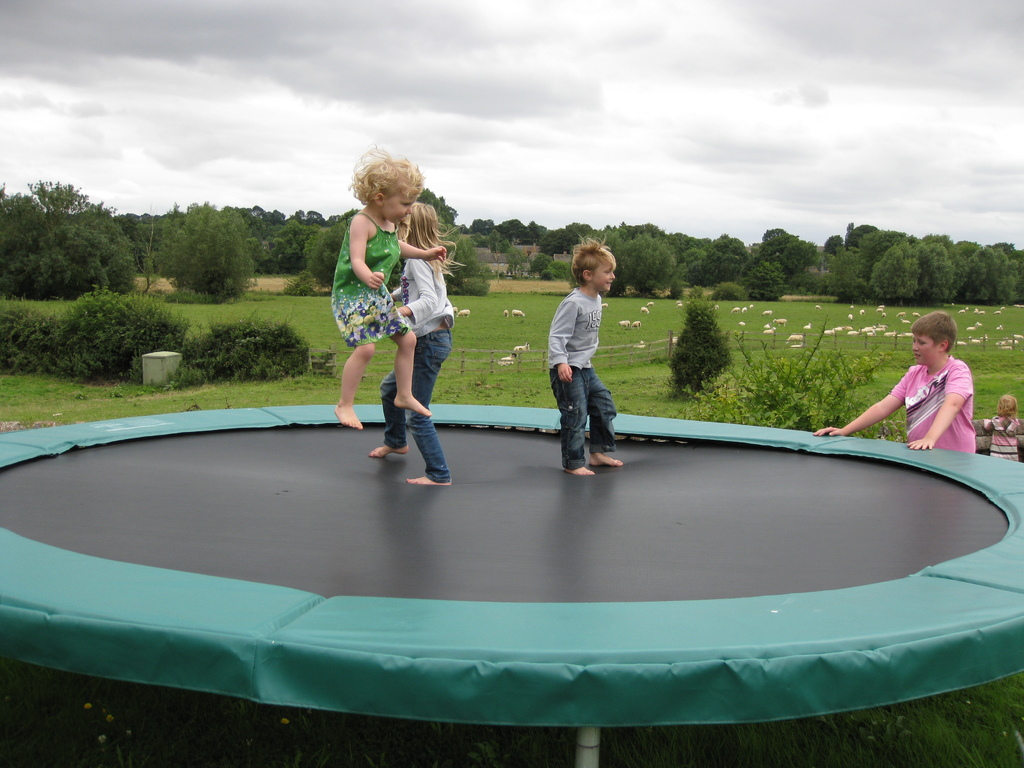Person: (329, 143, 446, 428), (367, 201, 465, 484), (813, 309, 976, 453), (548, 230, 621, 475), (981, 393, 1020, 460)
